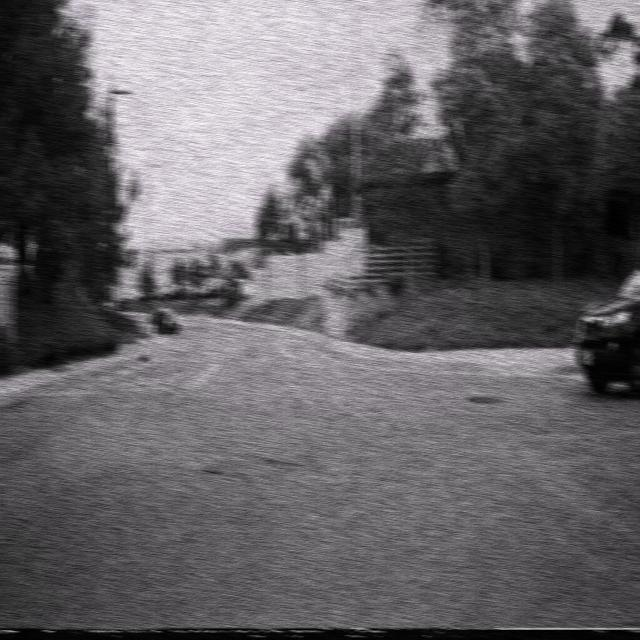speedLimit25: (353, 226, 367, 256)
